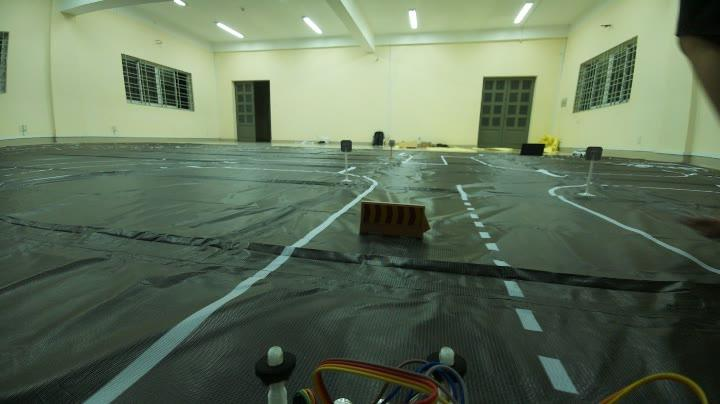roadblock: (356, 194, 441, 252)
